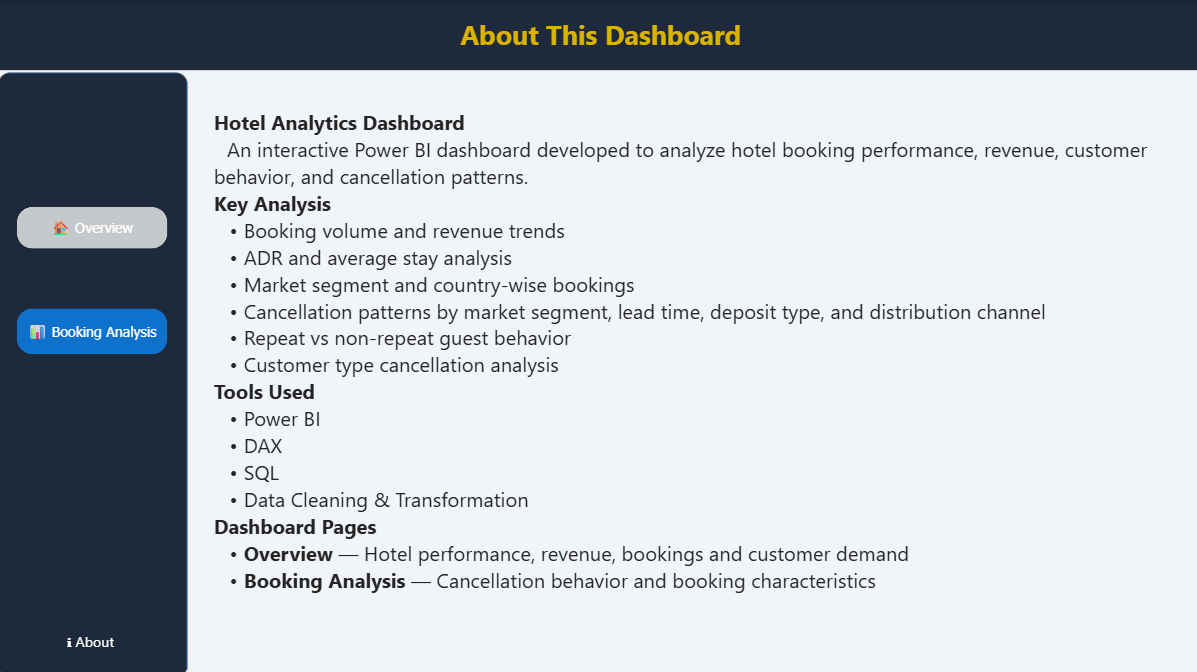

This screenshot's page, from the dashboard's own definition file:
{"tool":"powerbi","page":{"name":"ℹ About","canvas":[1920,1080],"ordinal":2},"visuals":[{"type":"shape","box":[0,0,1920,1080],"z":0},{"type":"cardVisual","fields":{"Data":["_measures.total_revenue"]},"box":[960.7,488.6,3.3,201.4],"z":1000},{"type":"shape","box":[0,115.9,302.3,964.7],"z":2000},{"type":"actionButton","box":[30,330,240,66.7],"z":3000},{"type":"actionButton","box":[30,493.3,240,73.3],"z":4000},{"type":"actionButton","box":[26.7,993.3,240,63.3],"z":5000},{"type":"shape","box":[0,0,1920,113.4],"z":15000},{"type":"textbox","box":[343.2,136.8,1549.5,917.8],"z":16000},{"type":"textbox","box":[27.7,27.7,1864,65.5],"z":16001}]}

Visuals, with their boxes in screenshot pixels (x1, y1, x2, y2), scaled from the page's 1920x1080 canvas onto the 1197x672 screenshot:
shape: 0,0,1196,671
cardVisual - _measures.total_revenue: 599,304,601,429
shape: 0,72,188,671
actionButton: 19,205,168,247
actionButton: 19,307,168,353
actionButton: 17,618,166,657
shape: 0,0,1196,71
textbox: 214,85,1180,656
textbox: 17,17,1179,58
